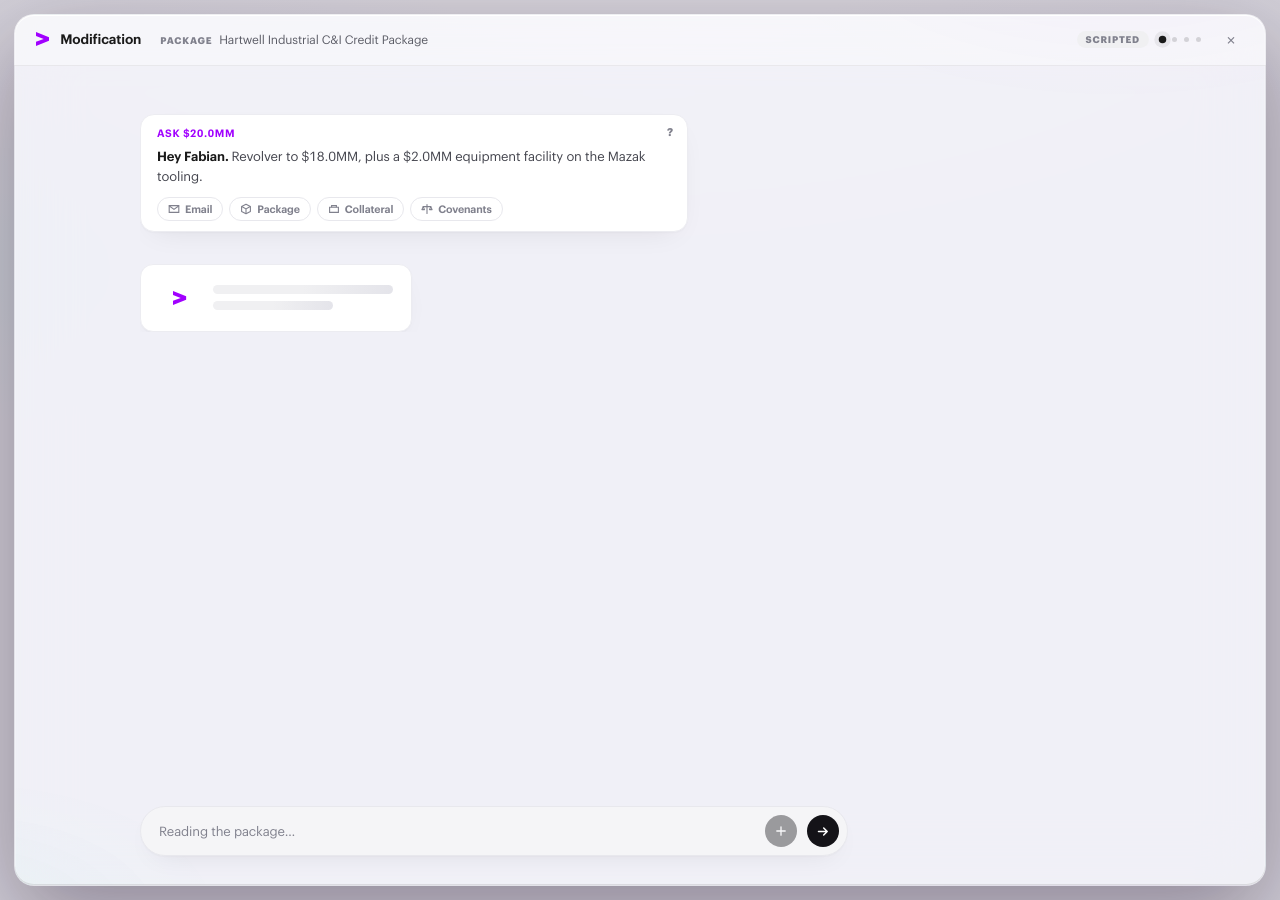
Test case: law 5 — nothing in the room scrolls › opens every disclosure as a peek that floats over the room
Click the button with class "wk-whybtn" at (670, 132), box 660,122 -> 680,141
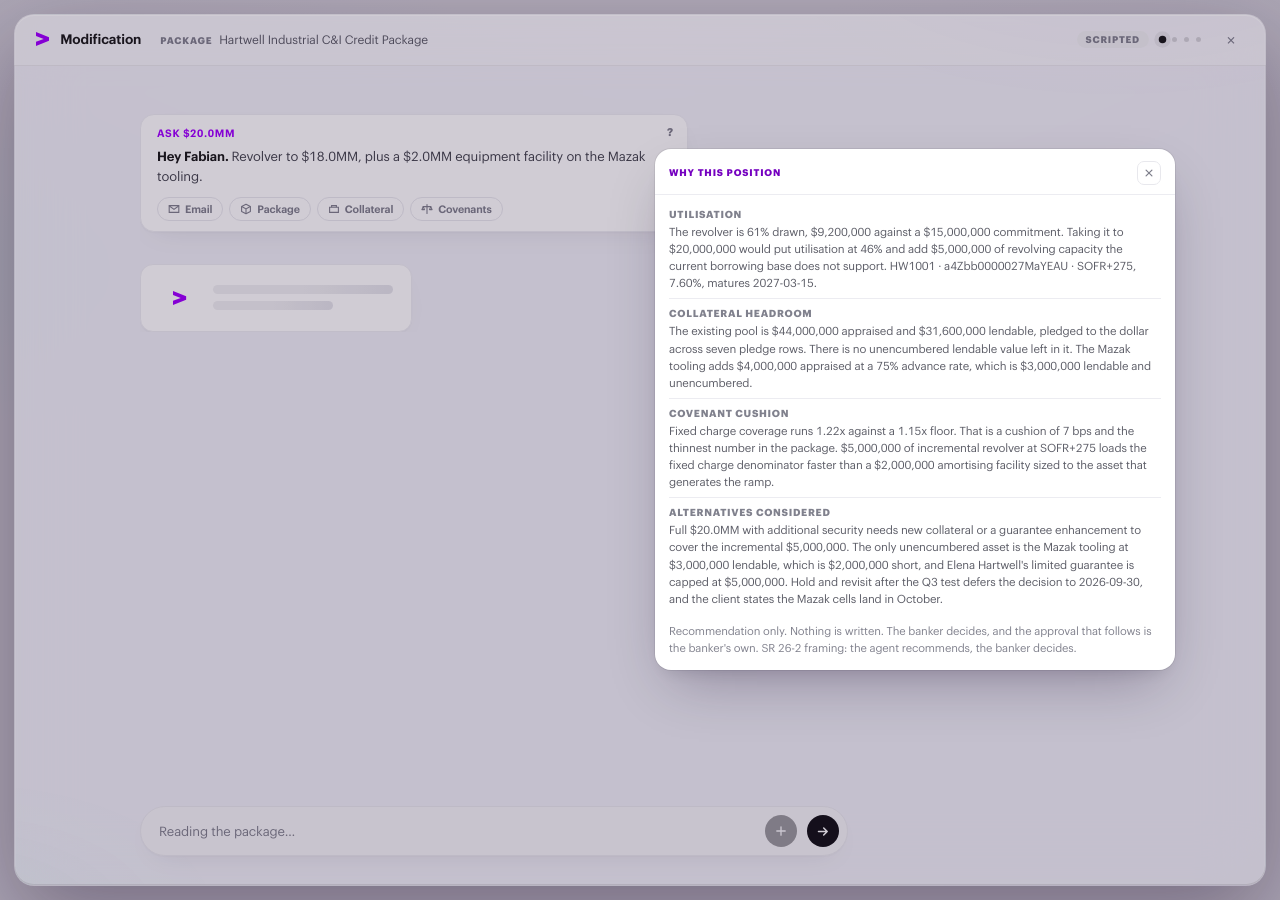
Check: the dialog with class "wk-peek-card" is shown, box 654,149 -> 1174,670
